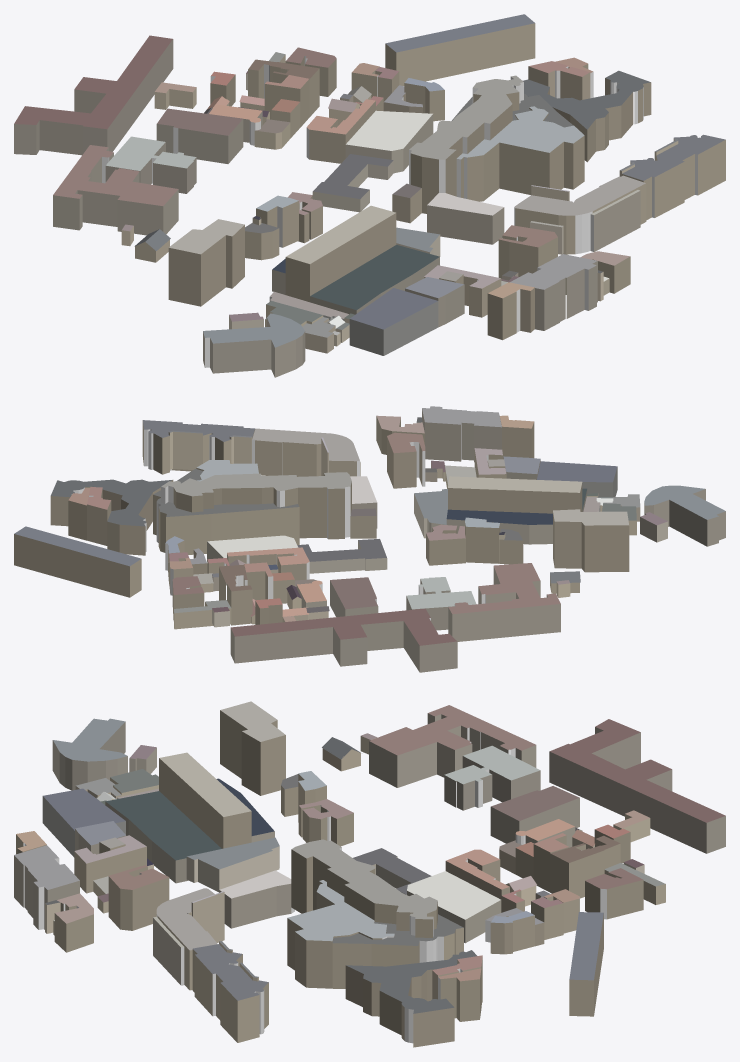
3 renders of one model, top to bottom at view 1: azimuth 30°, elevation 25°; view 2: azimuth 150°, elevation 25°; view 3: azimuth 270°, elevation 25°, orthographic. The views are drawn at different scales.
Parts seen in each view (by area): view 1: tuile; view 2: tuile; view 3: tuile.
Part boxes in pixels (x1=…): tuile: x1=14, y1=14, x2=725, y2=377; tuile: x1=14, y1=406, x2=725, y2=672; tuile: x1=14, y1=701, x2=725, y2=1047.
Bounding box in the file's own units: 290 × 30.04 × 292.
